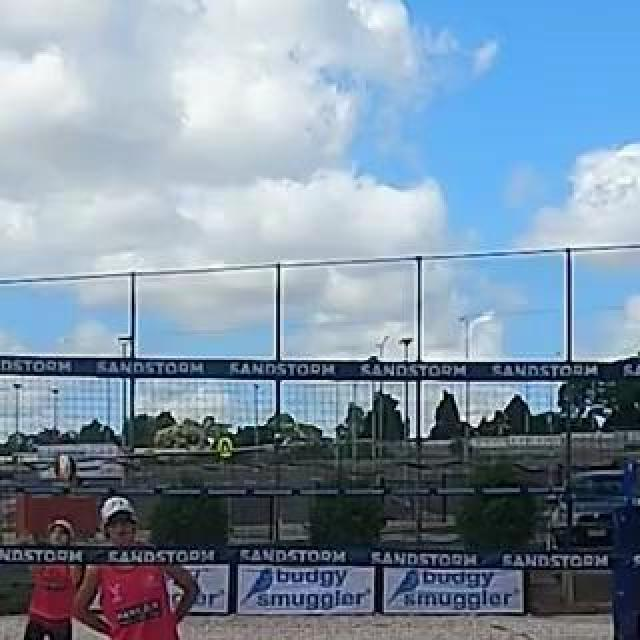volleyball: (54, 454, 78, 480)
